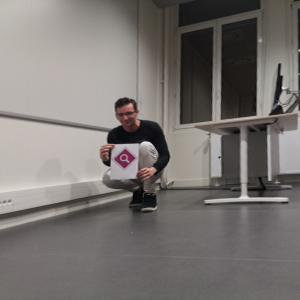search: (113, 147, 137, 169)
